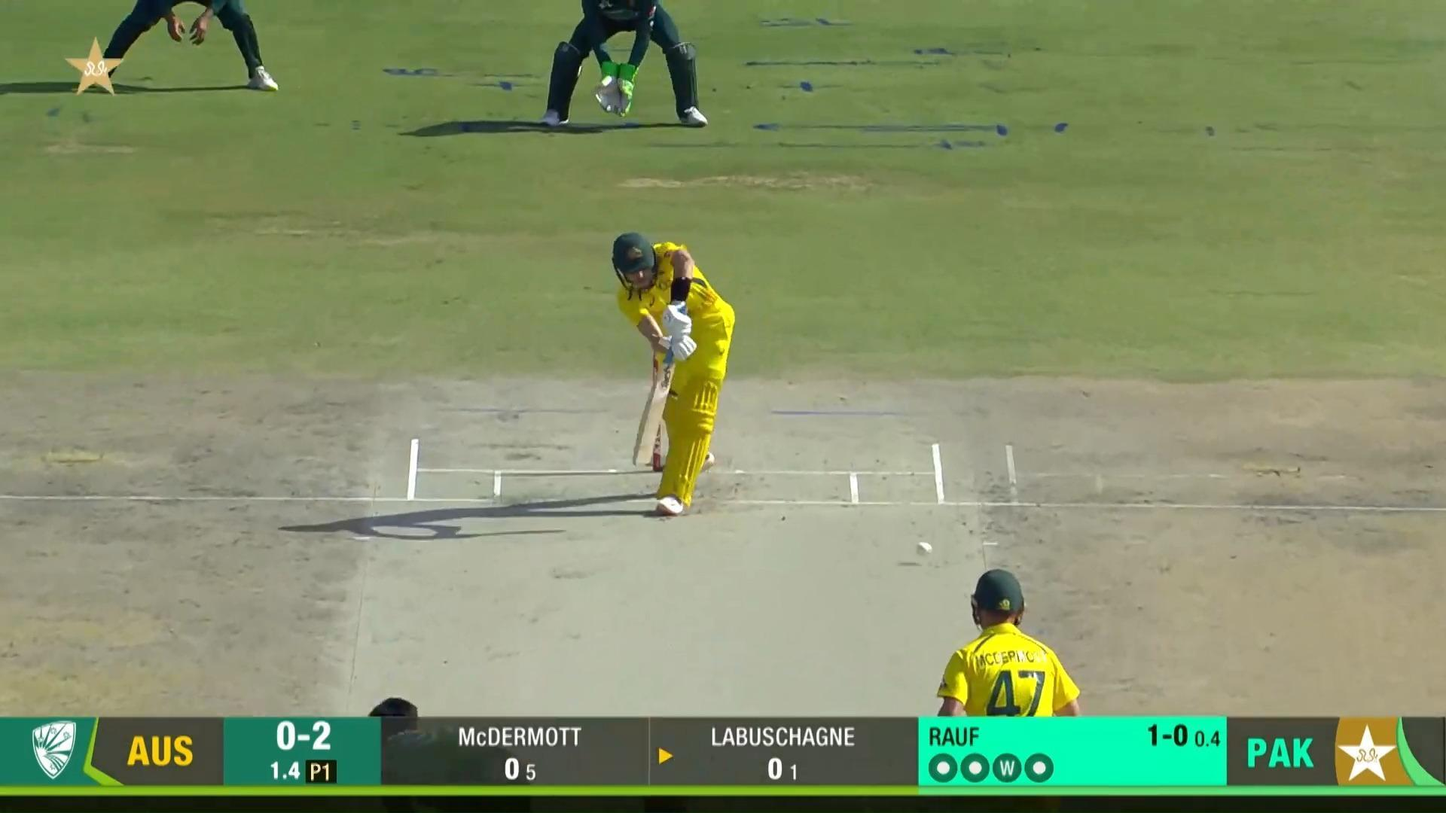BM 1: (612, 232, 735, 515)
BO: (365, 694, 435, 726)
